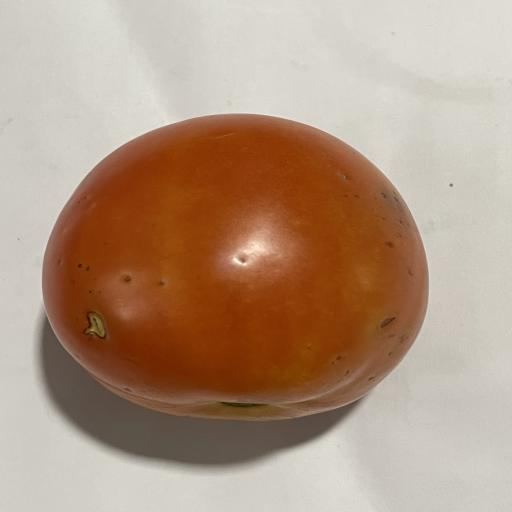ripe: (43, 114, 428, 420)
